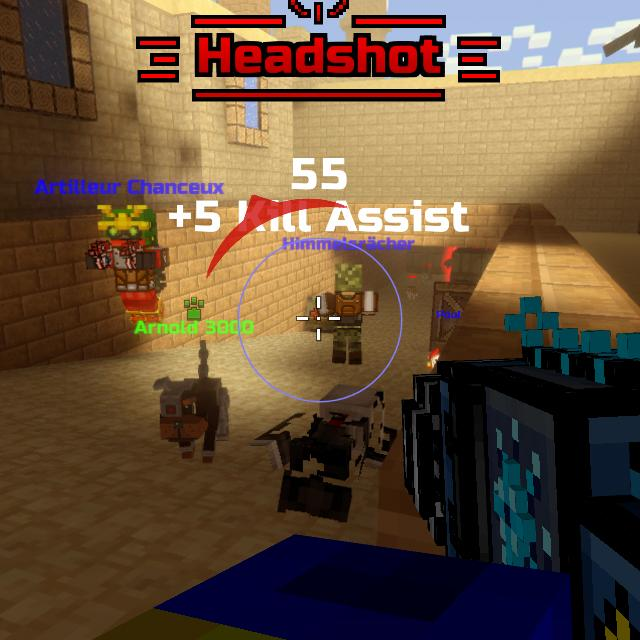Enemy: (444, 251, 454, 281)
